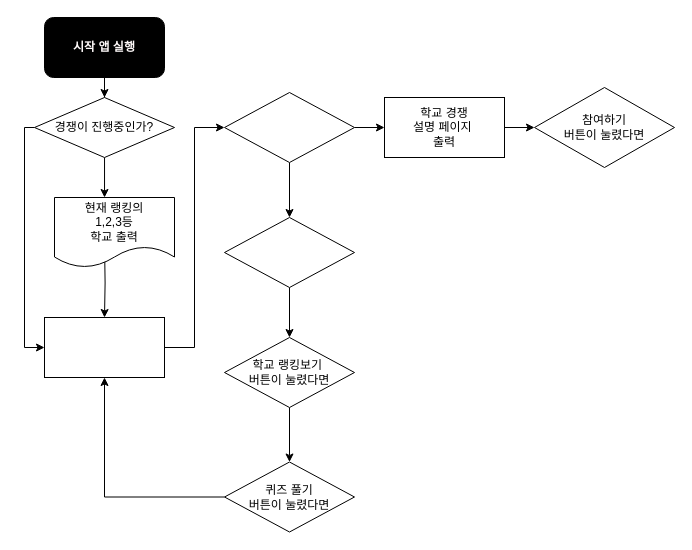
Some shapes in this 692 by 550 pixel diagram are drawn without their labels. Each missing label, with the centre of its shape:
나의 경쟁기록 버튼이 눌렸다면: point 289,252
사용자 입력 기다리기: point 104,347
학교 경쟁 참여하기 버튼이 눌렸다면: point 289,127
